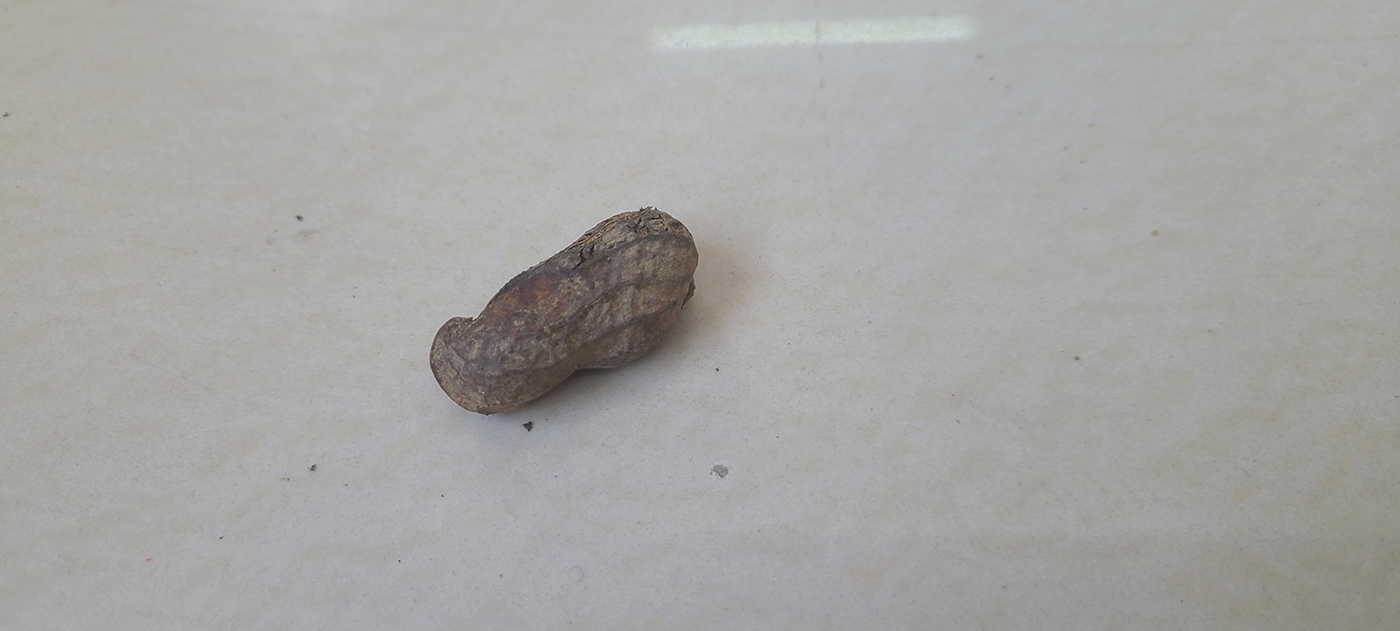l: (423, 204, 701, 421)
